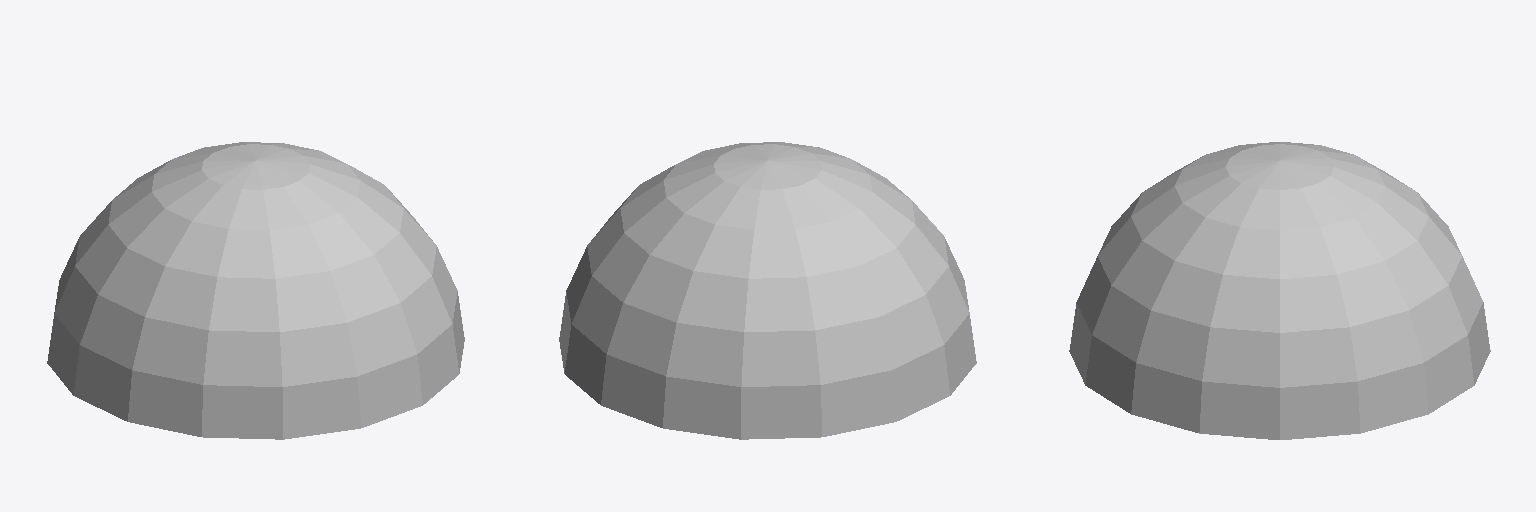
File: obstacle04.obj
3 renders of one model, left to right at view 1: azimuth 30°, elevation 25°; view 2: azimuth 150°, elevation 25°; view 3: azimuth 270°, elevation 25°, orthographic.
Visible parts, largest first — view 1: obstacle04; view 2: obstacle04; view 3: obstacle04.
Part boxes in pixels (x1,y1,x2,y2): obstacle04: (47, 142, 464, 439); obstacle04: (559, 142, 976, 439); obstacle04: (1069, 142, 1490, 439).
Size of the model in its own units: 2 by 1 by 2.